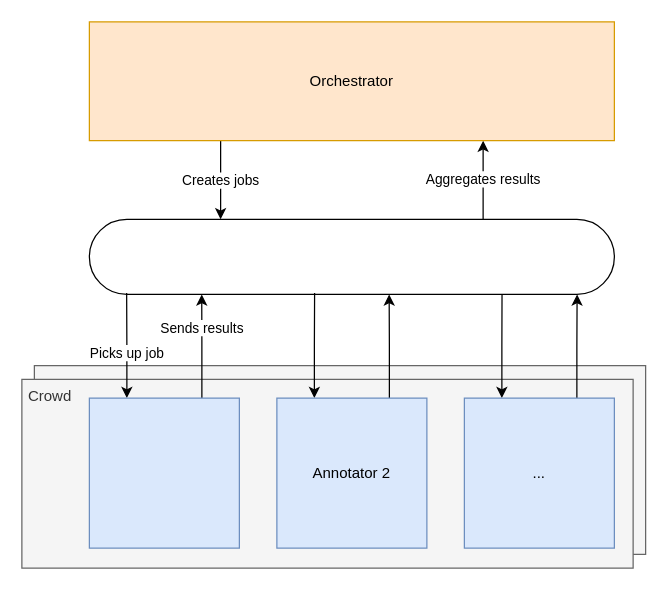
The diagram is 668 pixels wide and 590 high, and some of its shapes have lost their labels. Here are the shapes that lost their labels. From the top down, the box of each, then its label:
(88, 218, 614, 294): Task queue
(88, 397, 239, 548): Annotator 1
